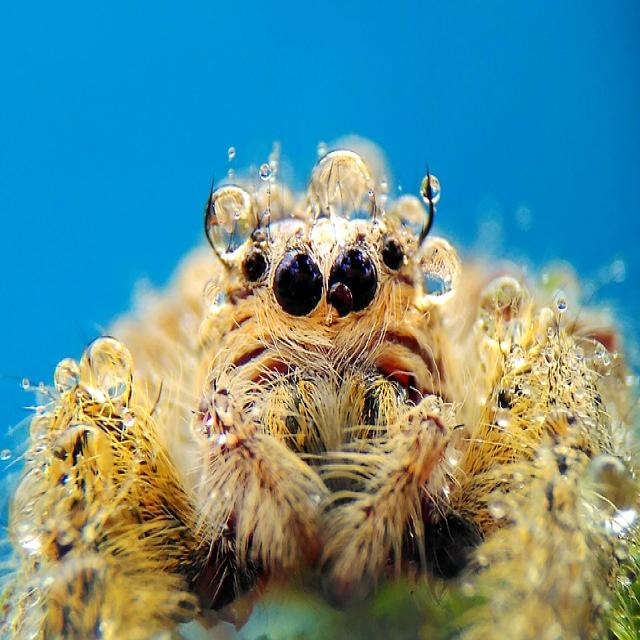spyder: (0, 136, 640, 640)
